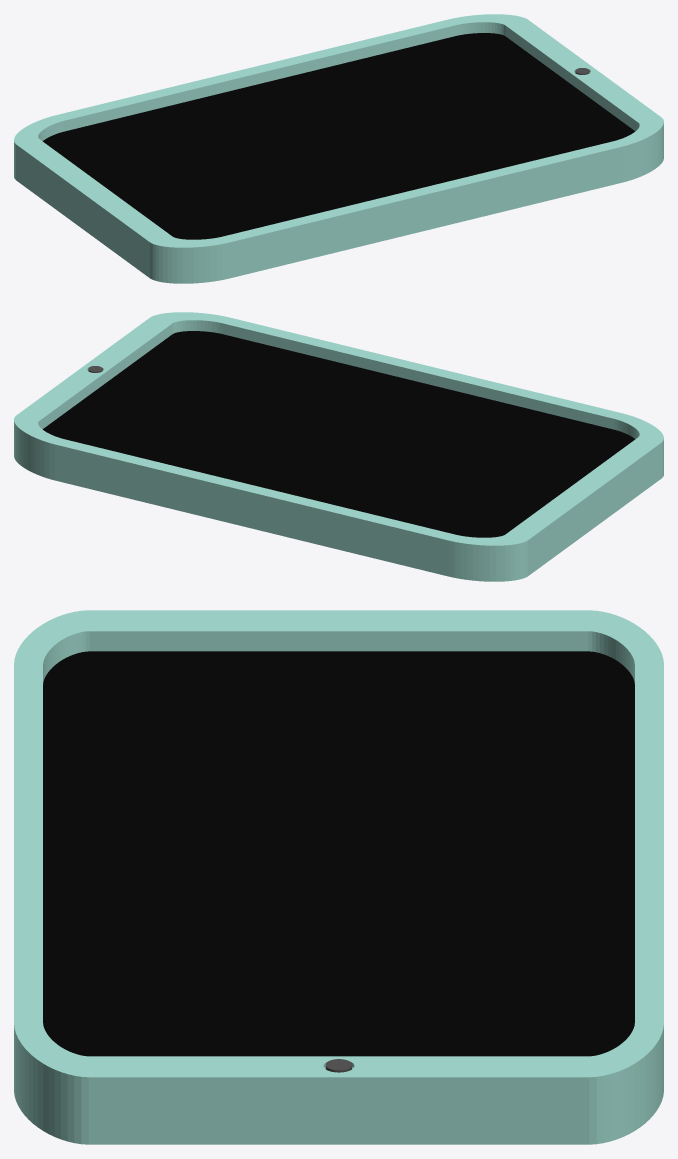
Rendered from Arctic_Ipad.fbx.
3 views of the same model, one above another, from view 1: azimuth 30°, elevation 25°; view 2: azimuth 150°, elevation 25°; view 3: azimuth 270°, elevation 25° (orthographic). The views are drawn at different scales.
Visible parts, largest first — view 1: Cube.001, Cylinder; view 2: Cube.001, Cylinder; view 3: Cube.001, Cylinder.
Boxes of the visible parts, left/top/right/bottom form: Cube.001: left=42, top=33, right=634, bottom=239; Cylinder: left=14, top=14, right=663, bottom=283; Cube.001: left=43, top=331, right=635, bottom=537; Cylinder: left=14, top=312, right=663, bottom=581; Cube.001: left=43, top=651, right=634, bottom=1056; Cylinder: left=14, top=610, right=663, bottom=1144.
Bounding box in the file's own units: 340 × 23.32 × 200.
